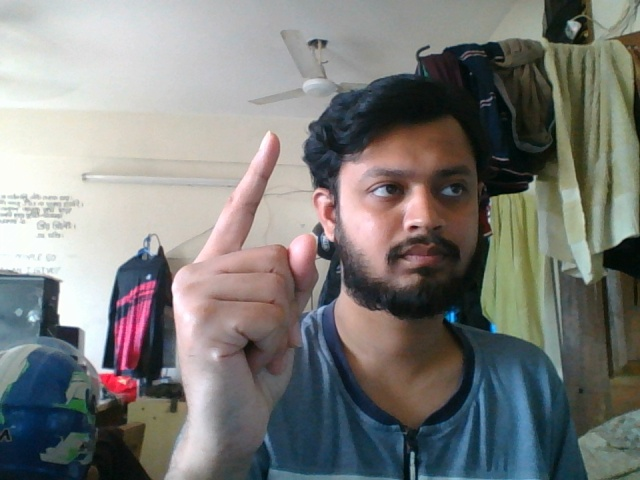u: (167, 120, 319, 459)
